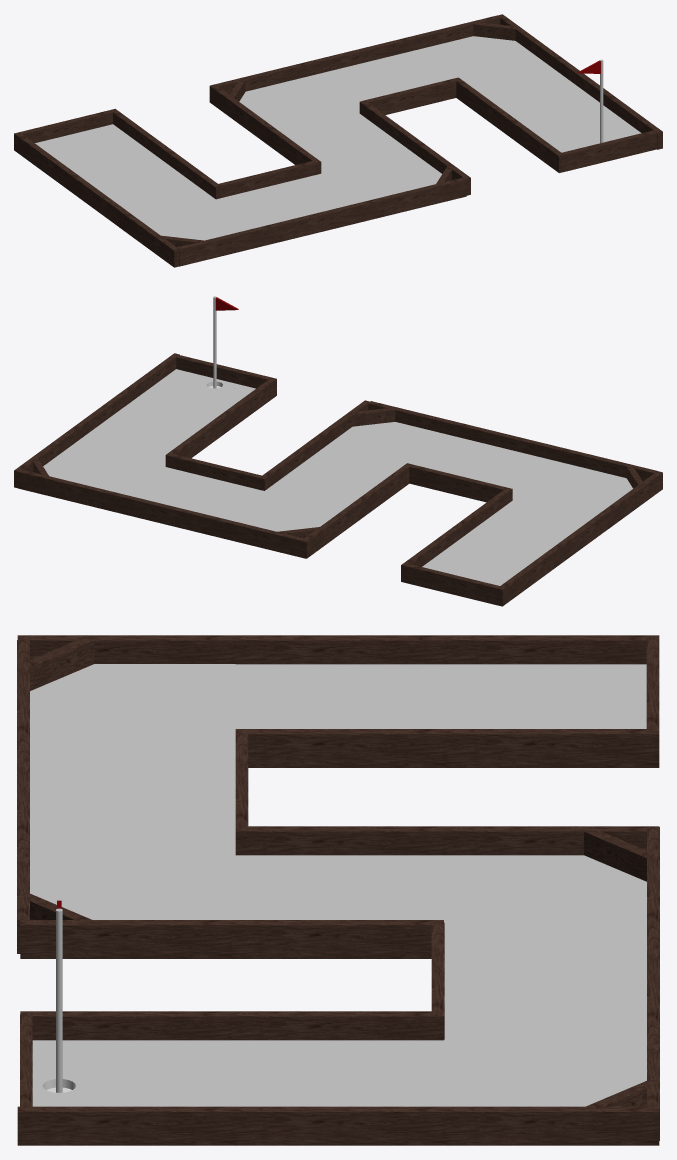
The model's file is Hole6.fbx.
3 views of the same model, one above another, from view 1: azimuth 30°, elevation 25°; view 2: azimuth 150°, elevation 25°; view 3: azimuth 270°, elevation 25° (orthographic). The views are drawn at different scales.
Parts seen in each view (by area): view 1: polySurface49; view 2: polySurface49; view 3: polySurface49.
Part boxes in pixels (x1,y1,x2,y2): polySurface49: [14, 14, 662, 267]; polySurface49: [14, 296, 662, 606]; polySurface49: [17, 635, 659, 1145].
Size of the model in its own units: 39 by 7.12 by 22.21.
